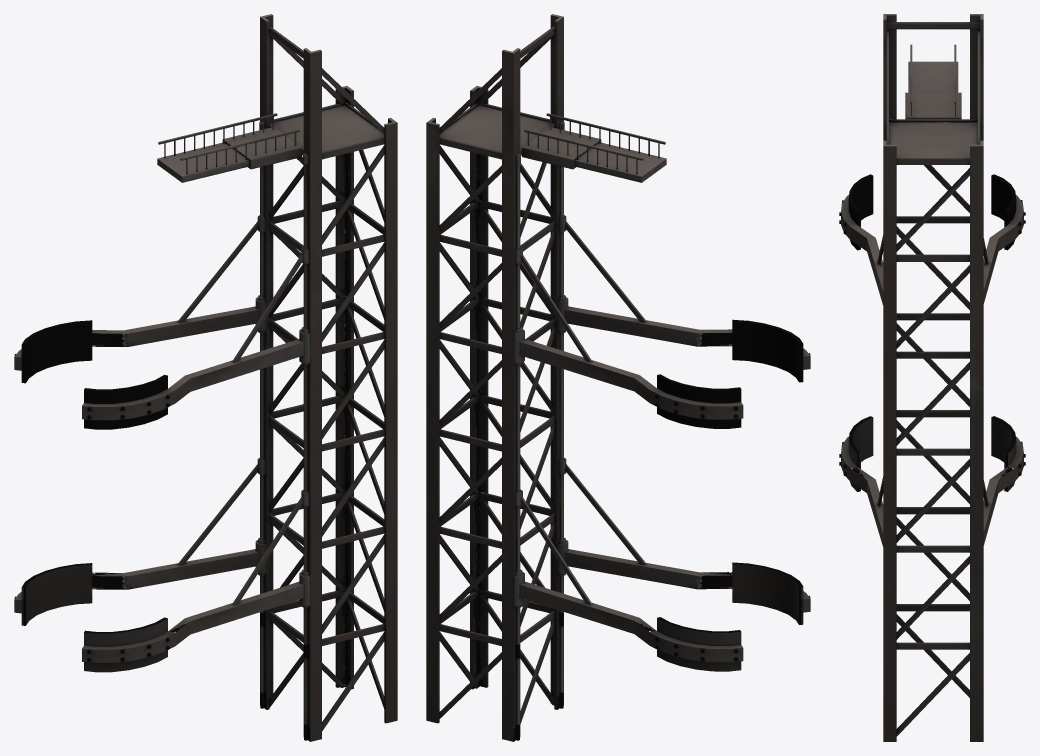
3 renders of one model, left to right at view 1: azimuth 30°, elevation 25°; view 2: azimuth 150°, elevation 25°; view 3: azimuth 270°, elevation 25°, orthographic.
Visible parts, largest first — view 1: body0_model0_lod0_mesh0; view 2: body0_model0_lod0_mesh0; view 3: body0_model0_lod0_mesh0.
Boxes of the visible parts, x1,y1,x2,y2 form: body0_model0_lod0_mesh0: [14, 14, 397, 741]; body0_model0_lod0_mesh0: [426, 14, 810, 741]; body0_model0_lod0_mesh0: [839, 14, 1025, 741].
Size of the model in its own units: 27.93 by 56.57 by 13.96.
Materials: 1 (1 with a texture image).
